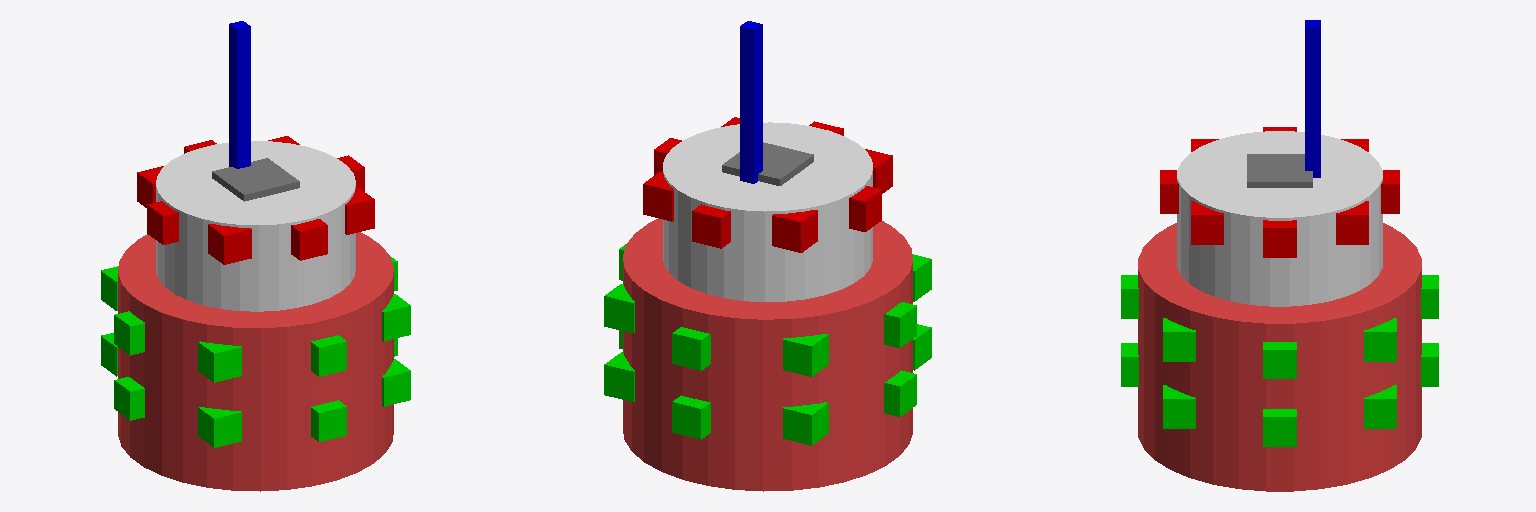
URDF robot description (random_bottle):
<?xml version="1.0"?>
<robot name="random_bottle">

  <!-- Define the cap link -->
  <link name="link1">
    <visual>
      <geometry>
        <mesh filename="cap.obj" scale="1.0 1.0 1.0"/>
      </geometry>
       <material name="white">
        <color rgba=".9 .9 .9 1"/>
      </material>

    </visual>
    <collision>
      <geometry>
        <mesh filename="cap.obj" scale="1.0 1.0 1.0"/>
      </geometry>
    </collision>

    <inertial>
      <mass value="0.01734537657941048"/> <!-- You can adjust the mass as needed -->
      <origin rpy="0 0 0" xyz="0 0 0"/>
      <inertia ixx="5.47993652031473e-06" ixy="0.0" ixz="0.0" iyy="5.47993652031473e-06" iyz="0.0" izz="8.427400650268801e-06"/>
    </inertial>
  </link>

    <link name="l10">
    <visual>
      <geometry>
        <box size="0.01 0.01 0.01"/>
      </geometry>

      <material name="red">
        <color rgba="0.9 0.0 0.0 1"/>
      </material>

    </visual>

    <inertial>
      <mass value="0.0001"/> <!-- You can adjust the mass as needed -->
      <origin rpy="0 0 0" xyz="0 0 -0.00"/> <!-- Offset by half of link1's height + 0.03m for the margin -->
      <inertia ixx="0.000000003" ixy="0.0" ixz="0.0" iyy="0.0000003" iyz="0.0" izz="0.00000003"/>
    </inertial>

  </link>
  <link name="l11">
    <visual>
      <geometry>
        <box size="0.01 0.01 0.01"/>
      </geometry>

      <material name="red">
        <color rgba="0.9 0.0 0.0 1"/>
      </material>

    </visual>

    <inertial>
      <mass value="0.0001"/> <!-- You can adjust the mass as needed -->
      <origin rpy="0 0 0" xyz="0 0 -0.00"/> <!-- Offset by half of link1's height + 0.03m for the margin -->
      <inertia ixx="0.000000003" ixy="0.0" ixz="0.0" iyy="0.0000003" iyz="0.0" izz="0.00000003"/>
    </inertial>

  </link>
  <link name="l12">
    <visual>
      <geometry>
        <box size="0.01 0.01 0.01"/>
      </geometry>

      <material name="red">
        <color rgba="0.9 0.0 0.0 1"/>
      </material>

    </visual>

    <inertial>
      <mass value="0.0001"/> <!-- You can adjust the mass as needed -->
      <origin rpy="0 0 0" xyz="0 0 -0.00"/> <!-- Offset by half of link1's height + 0.03m for the margin -->
      <inertia ixx="0.000000003" ixy="0.0" ixz="0.0" iyy="0.0000003" iyz="0.0" izz="0.00000003"/>
    </inertial>

  </link>
  <link name="l13">
    <visual>
      <geometry>
        <box size="0.01 0.01 0.01"/>
      </geometry>

      <material name="red">
        <color rgba="0.9 0.0 0.0 1"/>
      </material>

    </visual>

    <inertial>
      <mass value="0.0001"/> <!-- You can adjust the mass as needed -->
      <origin rpy="0 0 0" xyz="0 0 -0.00"/> <!-- Offset by half of link1's height + 0.03m for the margin -->
      <inertia ixx="0.000000003" ixy="0.0" ixz="0.0" iyy="0.0000003" iyz="0.0" izz="0.00000003"/>
    </inertial>

  </link>
  <link name="l10b">
    <visual>
      <geometry>
        <box size="0.01 0.01 0.01"/>
      </geometry>

      <material name="red">
        <color rgba="0.9 0.0 0.0 1"/>
      </material>

    </visual>

    <inertial>
      <mass value="0.0001"/> <!-- You can adjust the mass as needed -->
      <origin rpy="0 0 0" xyz="0 0 -0.00"/> <!-- Offset by half of link1's height + 0.03m for the margin -->
      <inertia ixx="0.000000003" ixy="0.0" ixz="0.0" iyy="0.0000003" iyz="0.0" izz="0.00000003"/>
    </inertial>

  </link>
  <link name="l11b">
    <visual>
      <geometry>
        <box size="0.01 0.01 0.01"/>
      </geometry>

      <material name="red">
        <color rgba="0.9 0.0 0.0 1"/>
      </material>

    </visual>

    <inertial>
      <mass value="0.0001"/> <!-- You can adjust the mass as needed -->
      <origin rpy="0 0 0" xyz="0 0 -0.00"/> <!-- Offset by half of link1's height + 0.03m for the margin -->
      <inertia ixx="0.000000003" ixy="0.0" ixz="0.0" iyy="0.0000003" iyz="0.0" izz="0.00000003"/>
    </inertial>

  </link>
  <link name="l12b">
    <visual>
      <geometry>
        <box size="0.01 0.01 0.01"/>
      </geometry>

      <material name="red">
        <color rgba="0.9 0.0 0.0 1"/>
      </material>

    </visual>

    <inertial>
      <mass value="0.0001"/> <!-- You can adjust the mass as needed -->
      <origin rpy="0 0 0" xyz="0 0 -0.00"/> <!-- Offset by half of link1's height + 0.03m for the margin -->
      <inertia ixx="0.000000003" ixy="0.0" ixz="0.0" iyy="0.0000003" iyz="0.0" izz="0.00000003"/>
    </inertial>

  </link>
  <link name="l13b">
    <visual>
      <geometry>
        <box size="0.01 0.01 0.01"/>
      </geometry>

      <material name="red">
        <color rgba="0.9 0.0 0.0 1"/>
      </material>

    </visual>

    <inertial>
      <mass value="0.0001"/> <!-- You can adjust the mass as needed -->
      <origin rpy="0 0 0" xyz="0 0 -0.00"/> <!-- Offset by half of link1's height + 0.03m for the margin -->
      <inertia ixx="0.000000003" ixy="0.0" ixz="0.0" iyy="0.0000003" iyz="0.0" izz="0.00000003"/>
    </inertial>

  </link>
  <link name="l20">
    <visual>
      <geometry>
        <box size="0.01 0.01 0.01"/>
      </geometry>

      <material name="red">
        <color rgba="0.0 0.9 0.0 1"/>
      </material>

    </visual>

    <inertial>
      <mass value="0.0001"/> <!-- You can adjust the mass as needed -->
      <origin rpy="0 0 0" xyz="0 0 -0.00"/> <!-- Offset by half of link1's height + 0.03m for the margin -->
      <inertia ixx="0.000000003" ixy="0.0" ixz="0.0" iyy="0.0000003" iyz="0.0" izz="0.00000003"/>
    </inertial>

  </link>
  <link name="l21">
    <visual>
      <geometry>
        <box size="0.01 0.01 0.01"/>
      </geometry>

      <material name="red">
        <color rgba="0.0 0.9 0.0 1"/>
      </material>

    </visual>

    <inertial>
      <mass value="0.0001"/> <!-- You can adjust the mass as needed -->
      <origin rpy="0 0 0" xyz="0 0 -0.00"/> <!-- Offset by half of link1's height + 0.03m for the margin -->
      <inertia ixx="0.000000003" ixy="0.0" ixz="0.0" iyy="0.0000003" iyz="0.0" izz="0.00000003"/>
    </inertial>

  </link>
  <link name="l22">
    <visual>
      <geometry>
        <box size="0.01 0.01 0.01"/>
      </geometry>

      <material name="red">
        <color rgba="0.0 0.9 0.0 1"/>
      </material>

    </visual>

    <inertial>
      <mass value="0.0001"/> <!-- You can adjust the mass as needed -->
      <origin rpy="0 0 0" xyz="0 0 -0.00"/> <!-- Offset by half of link1's height + 0.03m for the margin -->
      <inertia ixx="0.000000003" ixy="0.0" ixz="0.0" iyy="0.0000003" iyz="0.0" izz="0.00000003"/>
    </inertial>

  </link>
  <link name="l23">
    <visual>
      <geometry>
        <box size="0.01 0.01 0.01"/>
      </geometry>

      <material name="red">
        <color rgba="0.0 0.9 0.0 1"/>
      </material>

    </visual>

    <inertial>
      <mass value="0.0001"/> <!-- You can adjust the mass as needed -->
      <origin rpy="0 0 0" xyz="0 0 -0.00"/> <!-- Offset by half of link1's height + 0.03m for the margin -->
      <inertia ixx="0.000000003" ixy="0.0" ixz="0.0" iyy="0.0000003" iyz="0.0" izz="0.00000003"/>
    </inertial>

  </link>
  <link name="l24">
    <visual>
      <geometry>
        <box size="0.01 0.01 0.01"/>
      </geometry>

      <material name="red">
        <color rgba="0.0 0.9 0.0 1"/>
      </material>

    </visual>

    <inertial>
      <mass value="0.0001"/> <!-- You can adjust the mass as needed -->
      <origin rpy="0 0 0" xyz="0 0 -0.00"/> <!-- Offset by half of link1's height + 0.03m for the margin -->
      <inertia ixx="0.000000003" ixy="0.0" ixz="0.0" iyy="0.0000003" iyz="0.0" izz="0.00000003"/>
    </inertial>

  </link>
  <link name="l25">
    <visual>
      <geometry>
        <box size="0.01 0.01 0.01"/>
      </geometry>

      <material name="red">
        <color rgba="0.0 0.9 0.0 1"/>
      </material>

    </visual>

    <inertial>
      <mass value="0.0001"/> <!-- You can adjust the mass as needed -->
      <origin rpy="0 0 0" xyz="0 0 -0.00"/> <!-- Offset by half of link1's height + 0.03m for the margin -->
      <inertia ixx="0.000000003" ixy="0.0" ixz="0.0" iyy="0.0000003" iyz="0.0" izz="0.00000003"/>
    </inertial>

  </link>
  <link name="l26">
    <visual>
      <geometry>
        <box size="0.01 0.01 0.01"/>
      </geometry>

      <material name="red">
        <color rgba="0.0 0.9 0.0 1"/>
      </material>

    </visual>

    <inertial>
      <mass value="0.0001"/> <!-- You can adjust the mass as needed -->
      <origin rpy="0 0 0" xyz="0 0 -0.00"/> <!-- Offset by half of link1's height + 0.03m for the margin -->
      <inertia ixx="0.000000003" ixy="0.0" ixz="0.0" iyy="0.0000003" iyz="0.0" izz="0.00000003"/>
    </inertial>

  </link>
  <link name="l27">
    <visual>
      <geometry>
        <box size="0.01 0.01 0.01"/>
      </geometry>

      <material name="red">
        <color rgba="0.0 0.9 0.0 1"/>
      </material>

    </visual>

    <inertial>
      <mass value="0.0001"/> <!-- You can adjust the mass as needed -->
      <origin rpy="0 0 0" xyz="0 0 -0.00"/> <!-- Offset by half of link1's height + 0.03m for the margin -->
      <inertia ixx="0.000000003" ixy="0.0" ixz="0.0" iyy="0.0000003" iyz="0.0" izz="0.00000003"/>
    </inertial>

  </link>
  <link name="l30">
    <visual>
      <geometry>
        <box size="0.01 0.01 0.01"/>
      </geometry>

      <material name="red">
        <color rgba="0.0 0.9 0.0 1"/>
      </material>

    </visual>

    <inertial>
      <mass value="0.0001"/> <!-- You can adjust the mass as needed -->
      <origin rpy="0 0 0" xyz="0 0 -0.00"/> <!-- Offset by half of link1's height + 0.03m for the margin -->
      <inertia ixx="0.000000003" ixy="0.0" ixz="0.0" iyy="0.0000003" iyz="0.0" izz="0.00000003"/>
    </inertial>

  </link>
  <link name="l31">
    <visual>
      <geometry>
        <box size="0.01 0.01 0.01"/>
      </geometry>

      <material name="red">
        <color rgba="0.0 0.9 0.0 1"/>
      </material>

    </visual>

    <inertial>
      <mass value="0.0001"/> <!-- You can adjust the mass as needed -->
      <origin rpy="0 0 0" xyz="0 0 -0.00"/> <!-- Offset by half of link1's height + 0.03m for the margin -->
      <inertia ixx="0.000000003" ixy="0.0" ixz="0.0" iyy="0.0000003" iyz="0.0" izz="0.00000003"/>
    </inertial>

  </link>
  <link name="l32">
    <visual>
      <geometry>
        <box size="0.01 0.01 0.01"/>
      </geometry>

      <material name="red">
        <color rgba="0.0 0.9 0.0 1"/>
      </material>

    </visual>

    <inertial>
      <mass value="0.0001"/> <!-- You can adjust the mass as needed -->
      <origin rpy="0 0 0" xyz="0 0 -0.00"/> <!-- Offset by half of link1's height + 0.03m for the margin -->
      <inertia ixx="0.000000003" ixy="0.0" ixz="0.0" iyy="0.0000003" iyz="0.0" izz="0.00000003"/>
    </inertial>

  </link>
  <link name="l33">
    <visual>
      <geometry>
        <box size="0.01 0.01 0.01"/>
      </geometry>

      <material name="red">
        <color rgba="0.0 0.9 0.0 1"/>
      </material>

    </visual>

    <inertial>
      <mass value="0.0001"/> <!-- You can adjust the mass as needed -->
      <origin rpy="0 0 0" xyz="0 0 -0.00"/> <!-- Offset by half of link1's height + 0.03m for the margin -->
      <inertia ixx="0.000000003" ixy="0.0" ixz="0.0" iyy="0.0000003" iyz="0.0" izz="0.00000003"/>
    </inertial>

  </link>
  <link name="l34">
    <visual>
      <geometry>
        <box size="0.01 0.01 0.01"/>
      </geometry>

      <material name="red">
        <color rgba="0.0 0.9 0.0 1"/>
      </material>

    </visual>

    <inertial>
      <mass value="0.0001"/> <!-- You can adjust the mass as needed -->
      <origin rpy="0 0 0" xyz="0 0 -0.00"/> <!-- Offset by half of link1's height + 0.03m for the margin -->
      <inertia ixx="0.000000003" ixy="0.0" ixz="0.0" iyy="0.0000003" iyz="0.0" izz="0.00000003"/>
    </inertial>

  </link>
  <link name="l35">
    <visual>
      <geometry>
        <box size="0.01 0.01 0.01"/>
      </geometry>

      <material name="red">
        <color rgba="0.0 0.9 0.0 1"/>
      </material>

    </visual>

    <inertial>
      <mass value="0.0001"/> <!-- You can adjust the mass as needed -->
      <origin rpy="0 0 0" xyz="0 0 -0.00"/> <!-- Offset by half of link1's height + 0.03m for the margin -->
      <inertia ixx="0.000000003" ixy="0.0" ixz="0.0" iyy="0.0000003" iyz="0.0" izz="0.00000003"/>
    </inertial>

  </link>
  <link name="l36">
    <visual>
      <geometry>
        <box size="0.01 0.01 0.01"/>
      </geometry>

      <material name="red">
        <color rgba="0.0 0.9 0.0 1"/>
      </material>

    </visual>

    <inertial>
      <mass value="0.0001"/> <!-- You can adjust the mass as needed -->
      <origin rpy="0 0 0" xyz="0 0 -0.00"/> <!-- Offset by half of link1's height + 0.03m for the margin -->
      <inertia ixx="0.000000003" ixy="0.0" ixz="0.0" iyy="0.0000003" iyz="0.0" izz="0.00000003"/>
    </inertial>

  </link>
  <link name="l37">
    <visual>
      <geometry>
        <box size="0.01 0.01 0.01"/>
      </geometry>

      <material name="red">
        <color rgba="0.0 0.9 0.0 1"/>
      </material>

    </visual>

    <inertial>
      <mass value="0.0001"/> <!-- You can adjust the mass as needed -->
      <origin rpy="0 0 0" xyz="0 0 -0.00"/> <!-- Offset by half of link1's height + 0.03m for the margin -->
      <inertia ixx="0.000000003" ixy="0.0" ixz="0.0" iyy="0.0000003" iyz="0.0" izz="0.00000003"/>
    </inertial>

  </link>


  <link name="hint">
    <visual>
      <geometry>
        <box size="0.005 0.005 0.07"/> <!-- 9cm x 9cm x 6cm -->
      </geometry>
       <material name="blue">
        <color rgba=".0 .0 .9 1"/>
      </material>
    </visual>

    <inertial>
      <mass value="0.0001"/> <!-- You can adjust the mass as needed -->
      <origin rpy="0 0 0" xyz="0 0 -0.00"/> <!-- Offset by half of link1's height + 0.03m for the margin -->
      <inertia ixx="0.000000003" ixy="0.0" ixz="0.0" iyy="0.0000003" iyz="0.0" izz="0.00000003"/>
    </inertial>


  </link>

  <!-- Define the base link -->
  <link name="link2">
    <visual>
      <geometry>
        <mesh filename="base.obj" scale="1.0 1.0 1.0"/>
      </geometry>
      <material name="red">
        <color rgba=".9 .3 .3 1"/>
      </material>

    </visual>

    <collision>
      <geometry>
        <mesh filename="base.obj" scale="1.0 1.0 1.0"/>
      </geometry>
    </collision>

    <inertial>
      <mass value="0.047192708798101904"/> <!-- You can adjust the mass as needed -->
      <origin rpy="0 0 0" xyz="0 0 -0.00"/> <!-- Offset by half of link1's height + 0.03m for the margin -->
      <inertia ixx="3.4123798910214064e-05" ixy="0.0" ixz="0.0" iyy="3.4123798910214064e-05" iyz="0.0" izz="4.359092217562427e-05"/>
    </inertial>
  </link>



  <link name="brake">
   <visual>
      <geometry>
        <box size="0.02 0.02 0.005"/> <!-- 6cm x 6cm x 2cm -->
      </geometry>
       <material name="gray">
        <color rgba=".5 .5 .5 1"/>
      </material>

    </visual>
    <collision>
      <geometry>
        <box size="0.02 0.02 0.005"/> <!-- 6cm x 6cm x 2cm -->
      </geometry>
    </collision>

    <inertial>
      <mass value="0.005"/> <!-- You can adjust the mass as needed -->
      <origin rpy="0 0 0" xyz="0 0 0"/>
      <inertia ixx="0.00018" ixy="0.0" ixz="0.0" iyy="0.00018" iyz="0.0" izz="0.00018"/>
    </inertial>
  </link>

  <!-- Define the joint connecting link1 and link2 as a revolute joint along z-axis -->
  <joint name="fix_joint" type="fixed">
    <parent link="link1"/>
    <child link="hint"/>
    <origin rpy="0 0 0" xyz="0 0.01 0.03"/> <!-- Offset by half of link1's height for the margin -->
    <axis xyz="0 0 1"/>
  </joint>

  <!-- Define the joint connecting link1 and link2 as a revolute joint along z-axis -->
  <joint name="brake_joint" type="prismatic">
    <parent link="link2"/>
    <child link="brake"/>
    <origin rpy="0 0 0" xyz="0 0 0.05759224971038779"/> <!-- Offset by half of link1's height for the margin -->
    <axis xyz="0 0 1"/>
    <limit lower="-0.02" upper="0.02" />
    <!-- <dynamics damping="0.0" friction="0.0"/> -->
  </joint>


  <joint name="b_joint" type="revolute">
    <parent link="link2"/>
    <child link="link1"/>
    <origin rpy="0 0 0" xyz="0 0 0.04299467549089206"/> <!-- Offset by half of link1's height for the margin -->
    <axis xyz="0 0 1"/>
    <!-- No joint limits -->
    <dynamics damping="0.0" friction="0.0"/>
  </joint>


  <!-- marker -->
    <joint name="jl10" type="fixed">
    <parent link="link1"/>
    <child link="l10"/>
    <origin rpy="0 0 0" xyz="0.0 0.031172379296552033 0.008879272265848719"/> <!-- Offset by half of link1's height for the margin -->
    <axis xyz="0 0 1"/>
  </joint>
  <joint name="jl11" type="fixed">
    <parent link="link1"/>
    <child link="l11"/>
    <origin rpy="0 0 0" xyz="0.022042200491001838 0.022042201081620326 0.008879272265848719"/> <!-- Offset by half of link1's height for the margin -->
    <axis xyz="0 0 1"/>
  </joint>
  <joint name="jl12" type="fixed">
    <parent link="link1"/>
    <child link="l12"/>
    <origin rpy="0 0 0" xyz="0.031172379296552023 8.352606795603993e-10 0.008879272265848719"/> <!-- Offset by half of link1's height for the margin -->
    <axis xyz="0 0 1"/>
  </joint>
  <joint name="jl13" type="fixed">
    <parent link="link1"/>
    <child link="l13"/>
    <origin rpy="0 0 0" xyz="0.022042201672238793 -0.022042199900383332 0.008879272265848719"/> <!-- Offset by half of link1's height for the margin -->
    <axis xyz="0 0 1"/>
  </joint>
  <joint name="jl10b" type="fixed">
    <parent link="link1"/>
    <child link="l10b"/>
    <origin rpy="0 0 0" xyz="1.670521359120798e-09 -0.031172379296551988 0.008879272265848719"/> <!-- Offset by half of link1's height for the margin -->
    <axis xyz="0 0 1"/>
  </joint>
  <joint name="jl11b" type="fixed">
    <parent link="link1"/>
    <child link="l11b"/>
    <origin rpy="0 0 0" xyz="-0.022042199309764803 -0.022042202262857264 0.008879272265848719"/> <!-- Offset by half of link1's height for the margin -->
    <axis xyz="0 0 1"/>
  </joint>
  <joint name="jl12b" type="fixed">
    <parent link="link1"/>
    <child link="l12b"/>
    <origin rpy="0 0 0" xyz="-0.031172379296551932 -2.5057820248378782e-09 0.008879272265848719"/> <!-- Offset by half of link1's height for the margin -->
    <axis xyz="0 0 1"/>
  </joint>
  <joint name="jl13b" type="fixed">
    <parent link="link1"/>
    <child link="l13b"/>
    <origin rpy="0 0 0" xyz="-0.022042202853475697 0.022042198719146273 0.008879272265848719"/> <!-- Offset by half of link1's height for the margin -->
    <axis xyz="0 0 1"/>
  </joint>
  <joint name="jl20" type="fixed">
    <parent link="link2"/>
    <child link="l20"/>
    <origin rpy="0 0 0" xyz="0.0 0.042980906732118 0.016796805294535234"/> <!-- Offset by half of link1's height for the margin -->
    <axis xyz="0 0 1"/>
  </joint>
  <joint name="jl21" type="fixed">
    <parent link="link2"/>
    <child link="l21"/>
    <origin rpy="0 0 0" xyz="0.030392090204650706 0.030392091019003625 0.016796805294535234"/> <!-- Offset by half of link1's height for the margin -->
    <axis xyz="0 0 1"/>
  </joint>
  <joint name="jl22" type="fixed">
    <parent link="link2"/>
    <child link="l22"/>
    <origin rpy="0 0 0" xyz="0.042980906732117984 1.1516689510178628e-09 0.016796805294535234"/> <!-- Offset by half of link1's height for the margin -->
    <axis xyz="0 0 1"/>
  </joint>
  <joint name="jl23" type="fixed">
    <parent link="link2"/>
    <child link="l23"/>
    <origin rpy="0 0 0" xyz="0.030392091833356522 -0.03039208939029776 0.016796805294535234"/> <!-- Offset by half of link1's height for the margin -->
    <axis xyz="0 0 1"/>
  </joint>
  <joint name="jl24" type="fixed">
    <parent link="link2"/>
    <child link="l24"/>
    <origin rpy="0 0 0" xyz="2.3033379020357243e-09 -0.042980906732117935 0.016796805294535234"/> <!-- Offset by half of link1's height for the margin -->
    <axis xyz="0 0 1"/>
  </joint>
  <joint name="jl25" type="fixed">
    <parent link="link2"/>
    <child link="l25"/>
    <origin rpy="0 0 0" xyz="-0.030392088575944783 -0.03039209264770942 0.016796805294535234"/> <!-- Offset by half of link1's height for the margin -->
    <axis xyz="0 0 1"/>
  </joint>
  <joint name="jl26" type="fixed">
    <parent link="link2"/>
    <child link="l26"/>
    <origin rpy="0 0 0" xyz="-0.04298090673211786 -3.4550068339662282e-09 0.016796805294535234"/> <!-- Offset by half of link1's height for the margin -->
    <axis xyz="0 0 1"/>
  </joint>
  <joint name="jl27" type="fixed">
    <parent link="link2"/>
    <child link="l27"/>
    <origin rpy="0 0 0" xyz="-0.030392093462062262 0.030392087761591805 0.016796805294535234"/> <!-- Offset by half of link1's height for the margin -->
    <axis xyz="0 0 1"/>
  </joint>
  <joint name="jl30" type="fixed">
    <parent link="link2"/>
    <child link="l30"/>
    <origin rpy="0 0 0" xyz="0.0 0.042980906732118 -0.005598935098178413"/> <!-- Offset by half of link1's height for the margin -->
    <axis xyz="0 0 1"/>
  </joint>
  <joint name="jl31" type="fixed">
    <parent link="link2"/>
    <child link="l31"/>
    <origin rpy="0 0 0" xyz="0.030392090204650706 0.030392091019003625 -0.005598935098178413"/> <!-- Offset by half of link1's height for the margin -->
    <axis xyz="0 0 1"/>
  </joint>
  <joint name="jl32" type="fixed">
    <parent link="link2"/>
    <child link="l32"/>
    <origin rpy="0 0 0" xyz="0.042980906732117984 1.1516689510178628e-09 -0.005598935098178413"/> <!-- Offset by half of link1's height for the margin -->
    <axis xyz="0 0 1"/>
  </joint>
  <joint name="jl33" type="fixed">
    <parent link="link2"/>
    <child link="l33"/>
    <origin rpy="0 0 0" xyz="0.030392091833356522 -0.03039208939029776 -0.005598935098178413"/> <!-- Offset by half of link1's height for the margin -->
    <axis xyz="0 0 1"/>
  </joint>
  <joint name="jl34" type="fixed">
    <parent link="link2"/>
    <child link="l34"/>
    <origin rpy="0 0 0" xyz="2.3033379020357243e-09 -0.042980906732117935 -0.005598935098178413"/> <!-- Offset by half of link1's height for the margin -->
    <axis xyz="0 0 1"/>
  </joint>
  <joint name="jl35" type="fixed">
    <parent link="link2"/>
    <child link="l35"/>
    <origin rpy="0 0 0" xyz="-0.030392088575944783 -0.03039209264770942 -0.005598935098178413"/> <!-- Offset by half of link1's height for the margin -->
    <axis xyz="0 0 1"/>
  </joint>
  <joint name="jl36" type="fixed">
    <parent link="link2"/>
    <child link="l36"/>
    <origin rpy="0 0 0" xyz="-0.04298090673211786 -3.4550068339662282e-09 -0.005598935098178413"/> <!-- Offset by half of link1's height for the margin -->
    <axis xyz="0 0 1"/>
  </joint>
  <joint name="jl37" type="fixed">
    <parent link="link2"/>
    <child link="l37"/>
    <origin rpy="0 0 0" xyz="-0.030392093462062262 0.030392087761591805 -0.005598935098178413"/> <!-- Offset by half of link1's height for the margin -->
    <axis xyz="0 0 1"/>
  </joint>



</robot>

--- Facts derived from the render (not from the file) ---
Views: 3 orthographic renders of the robot side by side, from view 1: azimuth 30°, elevation 25°; view 2: azimuth 150°, elevation 25°; view 3: azimuth 270°, elevation 25°.
Robot: random_bottle — 28 links, 27 joints (1 revolute, 1 prismatic, 25 fixed); root link link2; default pose: all joints at 0.
Visible links, largest first — view 1: link2, link1, hint, brake, l35, l11b, l25, l10b, l34, l24, l12b, l26 (+7 smaller); view 2: link2, link1, hint, brake, l13b, l27, l37, l30, l10, l20, l12b, l26 (+7 smaller); view 3: link2, link1, hint, brake, l32, l12, l22, l21, l23, l31, l33, l11 (+7 smaller).
Link boxes in pixels (x1,y1,x2,y2): link2: (118,232,393,491); link1: (156,141,355,311); hint: (229,21,250,168); brake: (212,158,299,201); l35: (198,407,241,447); l11b: (208,224,251,264); l25: (198,341,241,382); l10b: (291,219,327,260); l34: (311,400,346,441); l24: (311,335,346,376); l12b: (147,201,178,244); l26: (114,311,144,355); link2: (623,218,912,491); link1: (663,122,872,301); hint: (740,21,762,183); brake: (722,142,813,185); l13b: (772,210,817,252); l27: (783,334,828,376); l37: (783,402,828,445); l30: (672,395,710,439); l10: (692,204,730,248); l20: (672,327,710,370); l12b: (849,186,881,231); l26: (884,302,916,347); link2: (1138,223,1421,491); link1: (1177,131,1382,306); hint: (1305,20,1320,177); brake: (1247,154,1312,187); l32: (1263,409,1296,446); l12: (1263,220,1296,257); l22: (1263,342,1296,378); l21: (1364,318,1396,361); l23: (1163,318,1195,361); l31: (1364,385,1396,428); l33: (1163,385,1195,428); l11: (1336,201,1368,244).
Size in the robot's own frame: 0.096 by 0.096 by 0.136 metres.
2 mesh visuals loaded from 2 distinct referenced files (2 OBJ).
